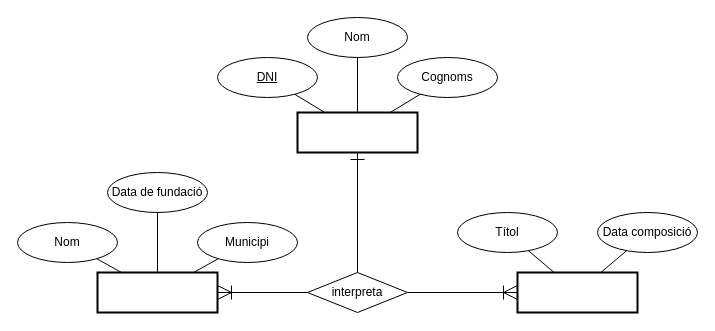
This 715x331 diagram has some shape labels left out. Each missing label, with the centre of its shape:
"DIRECTOR" goes at [357,132].
"OBRA" goes at [577,292].
"ORQUESTRA" goes at [157,292].
